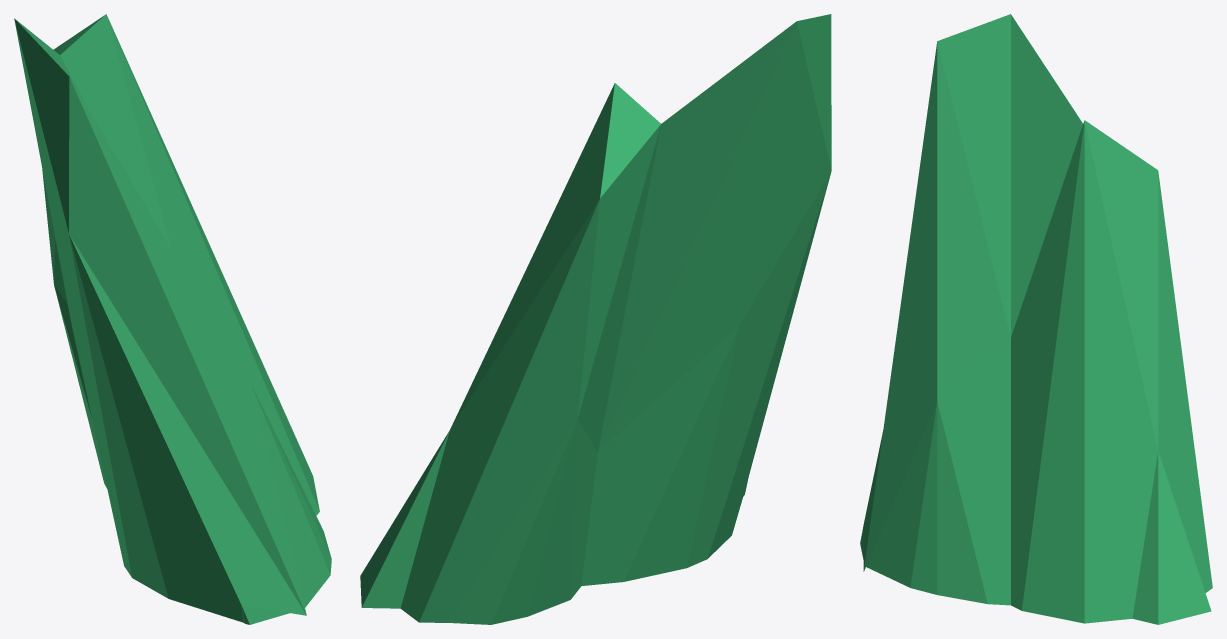
File: Rock_Medium_Gem_Jade_Emerald_Spike_03.FBX
3 renders of one model, left to right at view 1: azimuth 30°, elevation 25°; view 2: azimuth 150°, elevation 25°; view 3: azimuth 270°, elevation 25°, orthographic. The views are drawn at different scales.
Parts seen in each view (by area): view 1: Rock_Medium_Gem_Jade_Emerald_Spike_03; view 2: Rock_Medium_Gem_Jade_Emerald_Spike_03; view 3: Rock_Medium_Gem_Jade_Emerald_Spike_03.
Part boxes in pixels (x1,y1,x2,y2): Rock_Medium_Gem_Jade_Emerald_Spike_03: (14,14,331,624); Rock_Medium_Gem_Jade_Emerald_Spike_03: (360,14,831,624); Rock_Medium_Gem_Jade_Emerald_Spike_03: (860,14,1212,624).
Size of the model in its own units: 3602 by 5762 by 3858.
